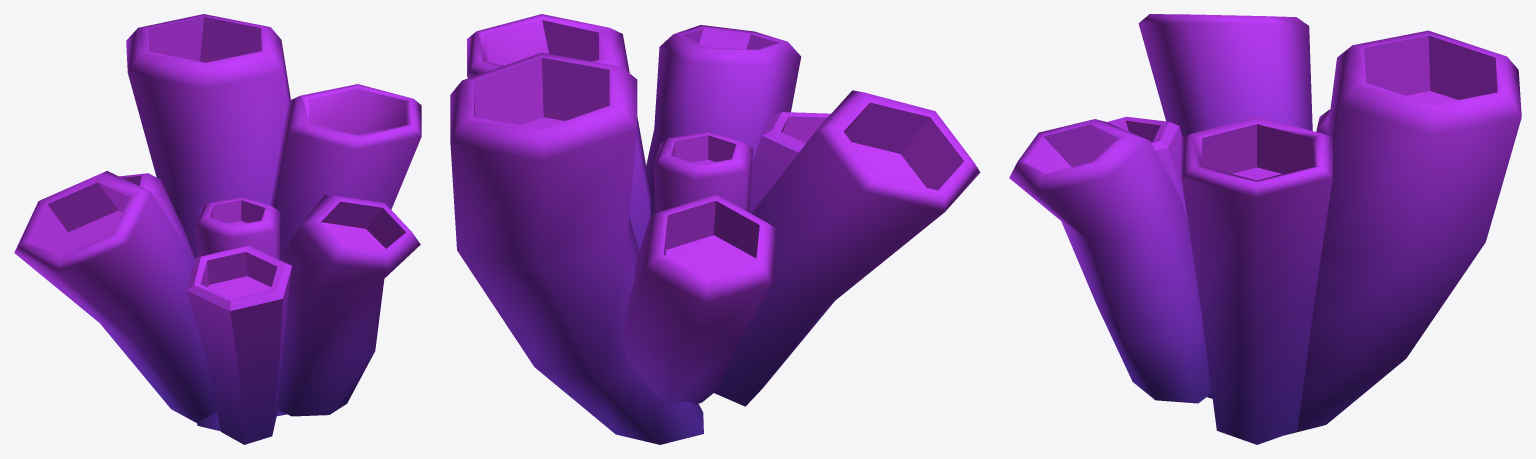
File: FBX_PLANTE_TUBES.fbx
3 renders of one model, left to right at view 1: azimuth 30°, elevation 25°; view 2: azimuth 150°, elevation 25°; view 3: azimuth 270°, elevation 25°, orthographic. The views are drawn at different scales.
Visible parts, largest first — view 1: PLANTE_TUBE5; view 2: PLANTE_TUBE5; view 3: PLANTE_TUBE5.
Part boxes in pixels (box(x1,y1,x2,y2)): PLANTE_TUBE5: box(14, 14, 421, 444); PLANTE_TUBE5: box(450, 14, 980, 444); PLANTE_TUBE5: box(1009, 14, 1521, 444).
Size of the model in its own units: 26.15 by 20 by 25.07.
